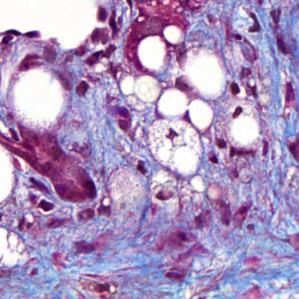steatosis: (136, 33, 171, 73)
